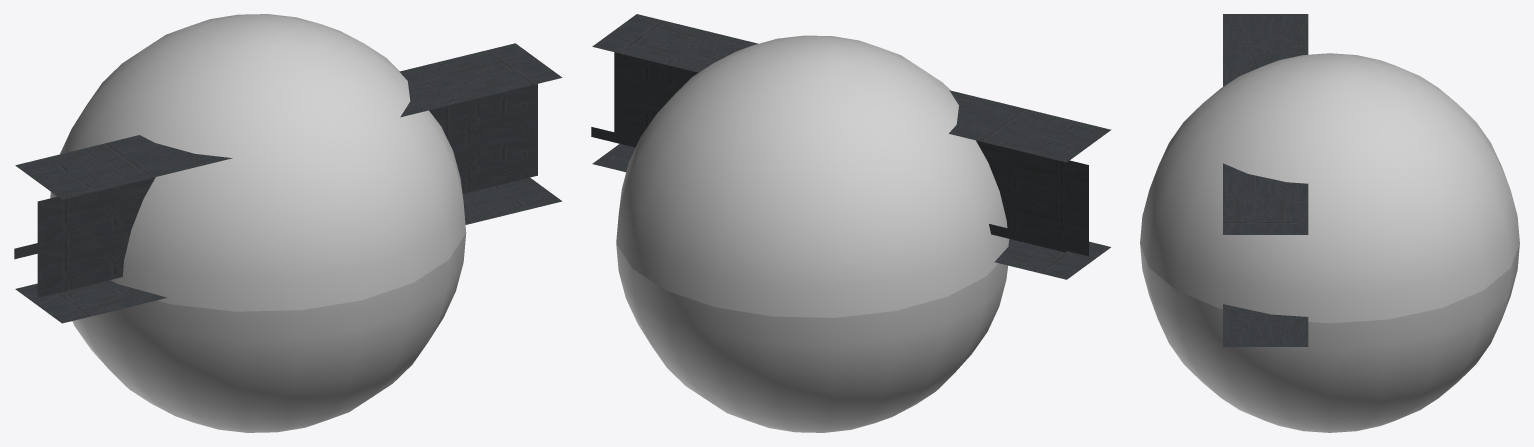
Rendered from Gacha Scene.fbx.
The picture shows the model from 3 angles, left to right: view 1: azimuth 30°, elevation 25°; view 2: azimuth 150°, elevation 25°; view 3: azimuth 270°, elevation 25°; orthographic projection. The views are drawn at different scales.
Parts seen in each view (by area): view 1: SM_UI_Card_SkyBox, SM_UI_Card_SkyBox (1), SM_UI_Card_Wall_01_B (47), SM_UI_Card_Wall_01_B (43), SM_UI_Card_Wall_01_B (44); view 2: SM_UI_Card_SkyBox, SM_UI_Card_SkyBox (1), SM_UI_Card_Wall_01_B (47), SM_UI_Card_Wall_01_B (43), SM_UI_Card_Wall_01_B (44), SM_UI_Card_Wall_01_B (45); view 3: SM_UI_Card_SkyBox, SM_UI_Card_SkyBox (1), SM_UI_Card_Wall_01_B (43), SM_UI_Card_Wall_01_B (44).
Part boxes in pixels (<box>): SM_UI_Card_SkyBox: <box>50,14,466,311</box>; SM_UI_Card_SkyBox (1): <box>72,233,466,432</box>; SM_UI_Card_Wall_01_B (47): <box>37,84,537,297</box>; SM_UI_Card_Wall_01_B (43): <box>15,43,562,199</box>; SM_UI_Card_Wall_01_B (44): <box>15,177,562,323</box>; SM_UI_Card_SkyBox: <box>616,35,1009,317</box>; SM_UI_Card_SkyBox (1): <box>616,244,1007,432</box>; SM_UI_Card_Wall_01_B (47): <box>614,52,1088,256</box>; SM_UI_Card_Wall_01_B (43): <box>592,14,1111,162</box>; SM_UI_Card_Wall_01_B (44): <box>592,144,1110,279</box>; SM_UI_Card_Wall_01_B (45): <box>591,127,1065,252</box>; SM_UI_Card_SkyBox: <box>1140,53,1519,323</box>; SM_UI_Card_SkyBox (1): <box>1140,244,1519,432</box>; SM_UI_Card_Wall_01_B (43): <box>1223,14,1308,234</box>; SM_UI_Card_Wall_01_B (44): <box>1223,304,1308,346</box>.
Bounding box in the file's own units: 689 × 500 × 500.
